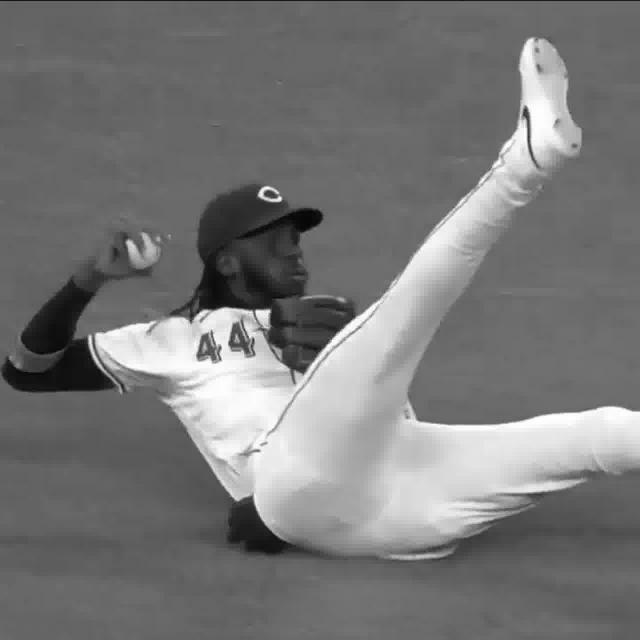baseball: (128, 233, 160, 266)
baseball_glove: (270, 290, 359, 374)
shoe: (515, 32, 588, 166)
